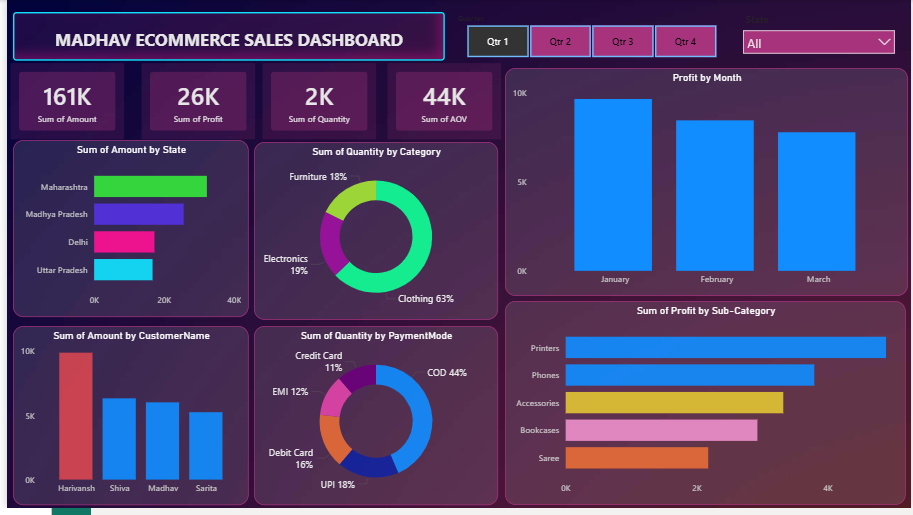

The dashboard page shown, as its layout file describes it:
{"tool":"powerbi","page":{"name":"Page 1","canvas":[1280,720],"ordinal":0},"visuals":[{"type":"textbox","box":[15.6,19.8,605.2,66.6],"z":0},{"type":"columnChart","title":"Profit by Month","fields":{"Y":["Sum(Details.Profit)"],"Category":["Orders.Order Date.Variation.Date Hierarchy.Month"]},"box":[708.7,96.4,562.7,323.1],"z":1000},{"type":"barChart","fields":{"Category":["Details.Sub-Category"],"Y":["Sum(Details.Profit)"]},"box":[708.7,426.6,562.7,289.1],"z":2000},{"type":"donutChart","fields":{"Category":["Details.Category"],"Y":["Sum(Details.Quantity)"]},"box":[350.1,201.3,345.8,252.3],"z":3000},{"type":"donutChart","fields":{"Y":["Sum(Details.Quantity)"],"Category":["Details.PaymentMode"]},"box":[350.1,460.6,345.8,255.1],"z":4000},{"type":"cardVisual","fields":{"Data":["Sum(Details.Amount)"]},"box":[0,86.5,171.5,114.8],"z":5000},{"type":"cardVisual","fields":{"Data":["Sum(Details.Profit)"]},"box":[185.7,86.5,171.5,114.8],"z":6000},{"type":"cardVisual","fields":{"Data":["Sum(Details.Quantity)"]},"box":[357.2,86.5,171.5,114.8],"z":6001},{"type":"cardVisual","fields":{"Data":["Sum(Details.AOV)"]},"box":[534.3,86.5,171.5,114.8],"z":6002},{"type":"barChart","fields":{"Category":["Orders.State"],"Y":["Sum(Details.Amount)"]},"box":[14.2,201.3,328.8,250.9],"z":6003},{"type":"columnChart","fields":{"Category":["Orders.CustomerName"],"Y":["Sum(Details.Amount)"]},"box":[14.2,462,324.6,256.5],"z":6004},{"type":"slicer","fields":{"Values":["Orders.State"]},"box":[1033.2,17,235.3,66.6],"z":6005},{"type":"slicer","fields":{"Values":["Orders.Order Date.Variation.Date Hierarchy.Quarter"]},"box":[626.5,17,402.5,69.4],"z":6006}]}

Visuals, with their boxes in screenshot pixels (x1, y1, x2, y2), scaled from the page's 1280x720 canvas onto the 913x515 screenshot:
textbox: (x1=11, y1=14, x2=443, y2=62)
"Profit by Month" columnChart: (x1=506, y1=69, x2=907, y2=300)
barChart - Details.Sub-Category x Sum(Details.Profit): (x1=506, y1=305, x2=907, y2=512)
donutChart - Details.Category x Sum(Details.Quantity): (x1=250, y1=144, x2=496, y2=324)
donutChart - Sum(Details.Quantity) x Details.PaymentMode: (x1=250, y1=329, x2=496, y2=512)
cardVisual - Sum(Details.Amount): (x1=0, y1=62, x2=122, y2=144)
cardVisual - Sum(Details.Profit): (x1=132, y1=62, x2=255, y2=144)
cardVisual - Sum(Details.Quantity): (x1=255, y1=62, x2=377, y2=144)
cardVisual - Sum(Details.AOV): (x1=381, y1=62, x2=503, y2=144)
barChart - Orders.State x Sum(Details.Amount): (x1=10, y1=144, x2=245, y2=323)
columnChart - Orders.CustomerName x Sum(Details.Amount): (x1=10, y1=330, x2=242, y2=514)
slicer - Orders.State: (x1=737, y1=12, x2=905, y2=60)
slicer - Orders.Order Date.Variation.Date Hierarchy.Quarter: (x1=447, y1=12, x2=734, y2=62)
